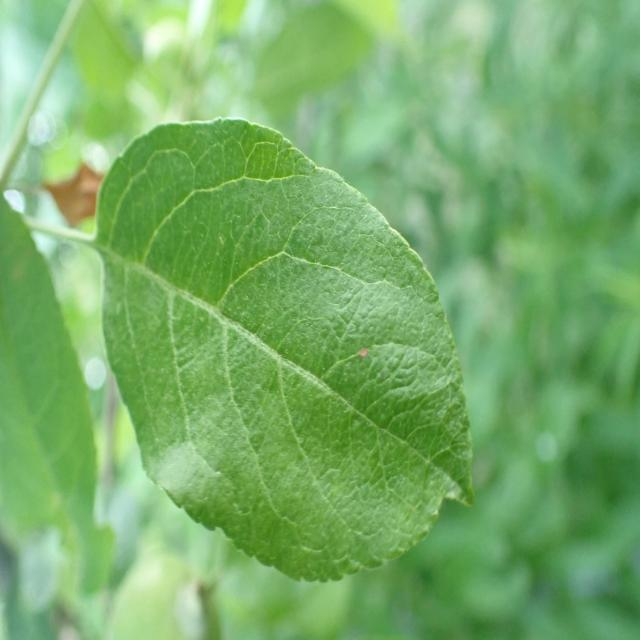healthy: (95, 115, 474, 584)
